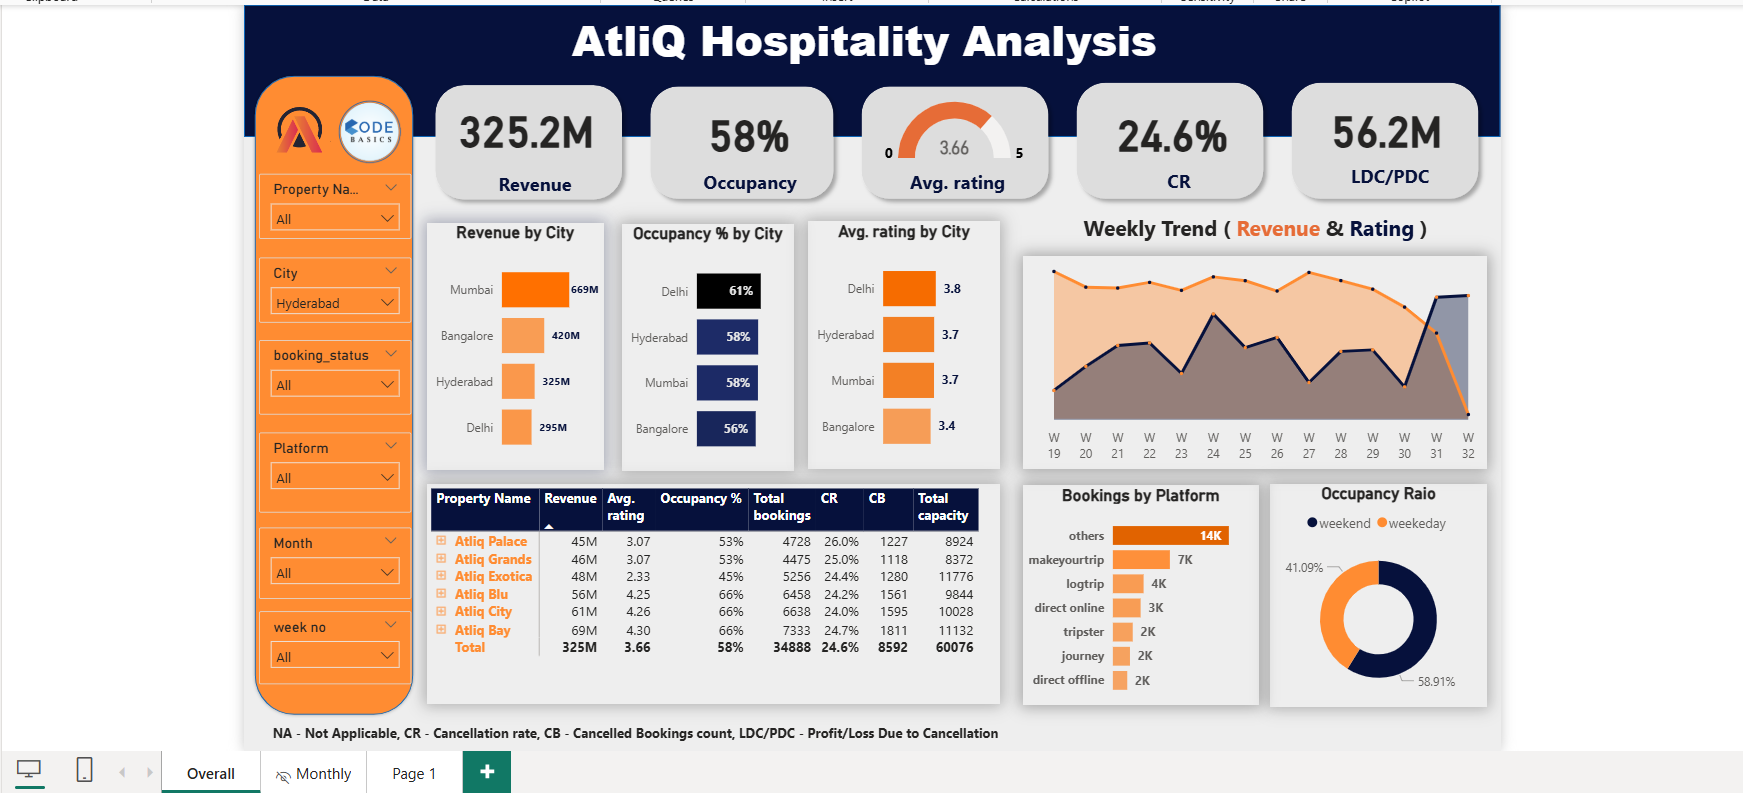

This screenshot's page, from the dashboard's own definition file:
{"tool":"powerbi","page":{"name":"Overall","canvas":[1280,760],"ordinal":0},"visuals":[{"type":"shape","box":[0,0,1280,134.4],"z":0},{"type":"textbox","box":[0,0,1278.1,75.7],"z":0,"group":"g1"},{"type":"group","id":"g1","title":"visuals","box":[0,0,1278.1,727],"z":1000},{"type":"shape","box":[1058.5,70.1,208.3,136.3],"z":1000,"group":"g1"},{"type":"shape","box":[839.3,70.1,208.3,136.3],"z":2000,"group":"g1"},{"type":"textbox","box":[443.5,163.2,145.1,44.5],"z":2000},{"type":"shape","box":[620.1,73.8,208.3,132.5],"z":3000,"group":"g1"},{"type":"textbox","box":[880.3,161.6,145.1,44.5],"z":3000},{"type":"shape","box":[404.7,73.8,204.5,132.5],"z":4000,"group":"g1"},{"type":"textbox","box":[1094.7,156.6,145.1,44.5],"z":4000},{"type":"textbox","box":[224.2,164.9,145.1,39.6],"z":5000},{"type":"clusteredBarChart","title":"Revenue by City","fields":{"Category":["dim_hotels.city"],"Y":["resource_measures.revenue"]},"box":[185.9,222.1,181,251.7],"z":5000,"group":"g1"},{"type":"card","fields":{"Values":["resource_measures.Occupancy %"]},"box":[454.4,96.6,119.3,64.4],"z":6000,"group":"g1"},{"type":"textbox","box":[654.5,163.2,145.1,44.5],"z":6000},{"type":"textbox","box":[802.3,207.8,456.5,48.5],"z":6500},{"type":"textbox","box":[24.7,727,1063.3,33],"z":6750},{"type":"clusteredBarChart","title":"Occupancy % by City","fields":{"Category":["dim_hotels.city"],"Y":["resource_measures.Occupancy %"]},"box":[384.1,222.6,176.4,252.2],"z":7000,"group":"g1"},{"type":"gauge","fields":{"MaxValue":["resource_measures.max.rating"],"MinValue":["resource_measures.min.rating"],"Y":["resource_measures.avg.rating mod"]},"box":[643,87.4,161.6,84.1],"z":8000,"group":"g1"},{"type":"clusteredBarChart","title":"Avg. rating by City","fields":{"Category":["dim_hotels.city"],"Y":["resource_measures.Avg. rating"]},"box":[573.7,220.9,196.2,252.2],"z":9000,"group":"g1"},{"type":"donutChart","title":"Occupancy Raio","fields":{"Category":["dim_date.day_type"],"Y":["resource_measures.Occupancy %"]},"box":[1045.2,488,220.9,227.5],"z":10000,"group":"g1"},{"type":"areaChart","title":"Weekly Trend (Revenue & Rating)","fields":{"Category":["dim_date.week no"],"Y2":["resource_measures.Avg. rating"],"Y":["resource_measures.revenue"]},"box":[793.2,256.3,473.2,216.9],"z":11000,"group":"g1"},{"type":"clusteredBarChart","title":"Bookings by Platform","fields":{"Category":["fact_bookings.booking_platform"],"Y":["resource_measures.Total bookings"]},"box":[793,489.6,240.7,224.2],"z":12000,"group":"g1"},{"type":"pivotTable","fields":{"Rows":["dim_hotels.property_name","dim_hotels.city"],"Values":["resource_measures.revenue","resource_measures.Avg. rating","resource_measures.Occupancy %","resource_measures.Total bookings","resource_measures.CR","resource_measures.Total cancelled bookings","resource_measures.Total capacity"]},"box":[186.3,488,583.6,224.2],"z":13000,"group":"g1"},{"type":"shape","box":[8.2,69.2,168.2,657.8],"z":14000,"group":"g1"},{"type":"slicer","fields":{"Values":["dim_date.week no"]},"box":[14.8,618.2,155,74.2],"z":15000,"group":"g1"},{"type":"slicer","fields":{"Values":["dim_date.mmm yy.Variation.Date Hierarchy.Month"]},"box":[14.8,532.5,155,72.5],"z":16000,"group":"g1"},{"type":"slicer","fields":{"Values":["fact_bookings.booking_platform"]},"box":[15.1,435.8,155.3,81.4],"z":17000,"group":"g1"},{"type":"slicer","fields":{"Values":["fact_bookings.booking_status"]},"box":[15.1,341.5,155.3,75.7],"z":18000,"group":"g1"},{"type":"slicer","fields":{"Values":["dim_hotels.city"]},"box":[15.1,256.7,155.3,66.3],"z":19000,"group":"g1"},{"type":"slicer","fields":{"Values":["dim_hotels.property_name"]},"box":[15.1,171.9,155.3,66.3],"z":20000,"group":"g1"},{"type":"card","fields":{"Values":["resource_measures.LDC"]},"box":[1088.6,87.4,150,74.2],"z":21000,"group":"g1"},{"type":"card","fields":{"Values":["resource_measures.CR"]},"box":[869.1,77.6,155.3,102.2],"z":22000,"group":"g1"},{"type":"shape","box":[185.6,72,208.3,134.4],"z":23000,"group":"g1"},{"type":"card","fields":{"Values":["resource_measures.revenue"]},"box":[206.7,87.4,163.2,74.2],"z":24000,"group":"g1"},{"type":"image","title":"atliq","box":[15.1,90.4,77.6,73.8],"z":25000,"group":"g1"},{"type":"image","title":"codebasics","box":[85.2,90.4,85.2,77.6],"z":26000,"group":"g1"}]}

Visuals, with their boxes on the page's 1280x760 design canvas (x1, y1, x2, y2). These are canvas units, not pixel positions in the 1743x793 screenshot, which may show the page scaled, cropped or inside an application window:
shape: [0,0,1280,134]
textbox: [0,0,1278,76]
"visuals" group: [0,0,1278,727]
shape: [1058,70,1267,206]
shape: [839,70,1048,206]
textbox: [444,163,589,208]
shape: [620,74,828,206]
textbox: [880,162,1025,206]
shape: [405,74,609,206]
textbox: [1095,157,1240,201]
textbox: [224,165,369,204]
"Revenue by City" clusteredBarChart: [186,222,367,474]
card - resource_measures.Occupancy %: [454,97,574,161]
textbox: [654,163,800,208]
textbox: [802,208,1259,256]
textbox: [25,727,1088,760]
"Occupancy % by City" clusteredBarChart: [384,223,560,475]
gauge - resource_measures.max.rating x resource_measures.min.rating: [643,87,805,172]
"Avg. rating by City" clusteredBarChart: [574,221,770,473]
"Occupancy Raio" donutChart: [1045,488,1266,716]
"Weekly Trend (Revenue & Rating)" areaChart: [793,256,1266,473]
"Bookings by Platform" clusteredBarChart: [793,490,1034,714]
pivotTable - dim_hotels.property_name x dim_hotels.city: [186,488,770,712]
shape: [8,69,176,727]
slicer - dim_date.week no: [15,618,170,692]
slicer - dim_date.mmm yy.Variation.Date Hierarchy.Month: [15,532,170,605]
slicer - fact_bookings.booking_platform: [15,436,170,517]
slicer - fact_bookings.booking_status: [15,342,170,417]
slicer - dim_hotels.city: [15,257,170,323]
slicer - dim_hotels.property_name: [15,172,170,238]
card - resource_measures.LDC: [1089,87,1239,162]
card - resource_measures.CR: [869,78,1024,180]
shape: [186,72,394,206]
card - resource_measures.revenue: [207,87,370,162]
"atliq" image: [15,90,93,164]
"codebasics" image: [85,90,170,168]
